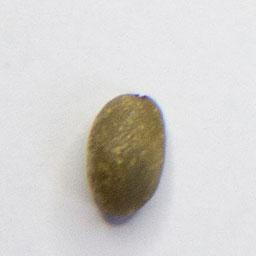peaberry: (83, 88, 169, 222)
